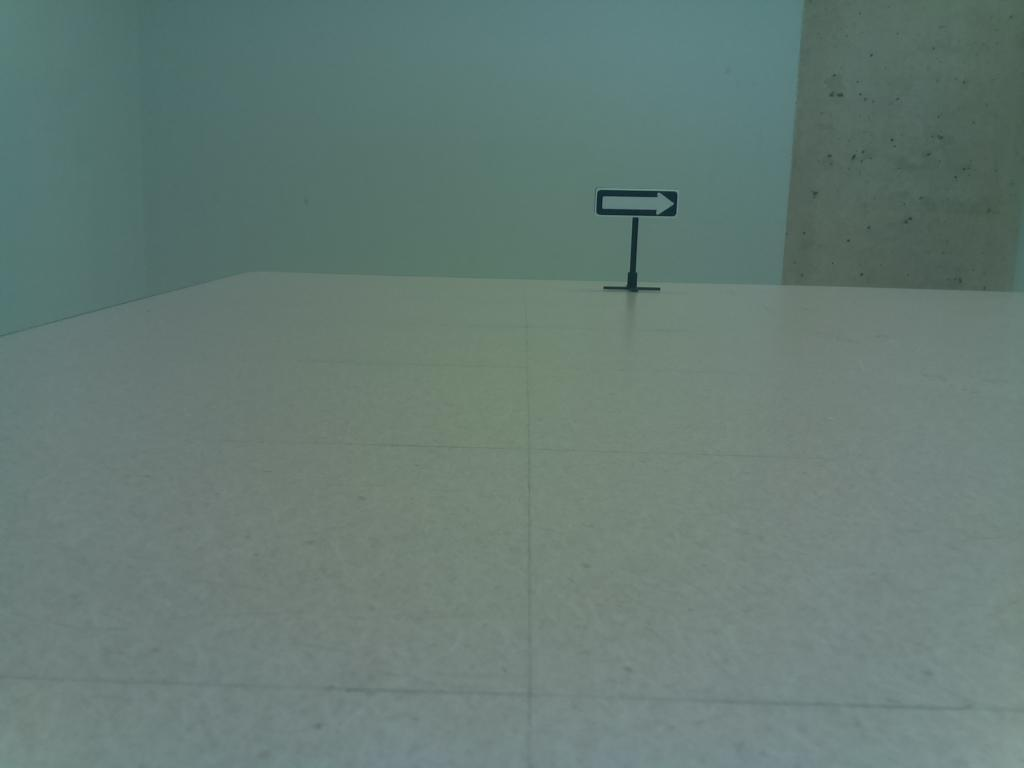sign_oneway_right: (593, 182, 685, 224)
